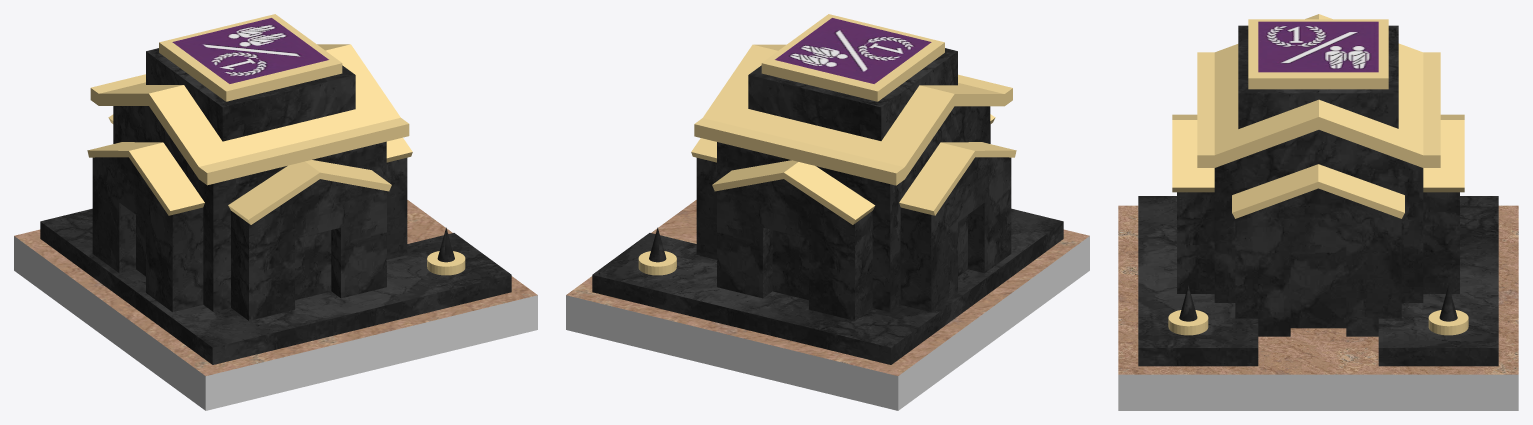
The model's file is buildingBiblioteca.glb.
3 renders of one model, left to right at view 1: azimuth 30°, elevation 25°; view 2: azimuth 150°, elevation 25°; view 3: azimuth 270°, elevation 25°, orthographic. The views are drawn at different scales.
Parts seen in each view (by area): view 1: Bibliotreca; view 2: Bibliotreca; view 3: Bibliotreca.
Part boxes in pixels (x1,y1,x2,y2): Bibliotreca: (14,14,537,410); Bibliotreca: (566,14,1089,410); Bibliotreca: (1118,14,1518,410).
Bounding box in the file's own units: 2 × 1.47 × 2.
5 materials, 3 textured.
